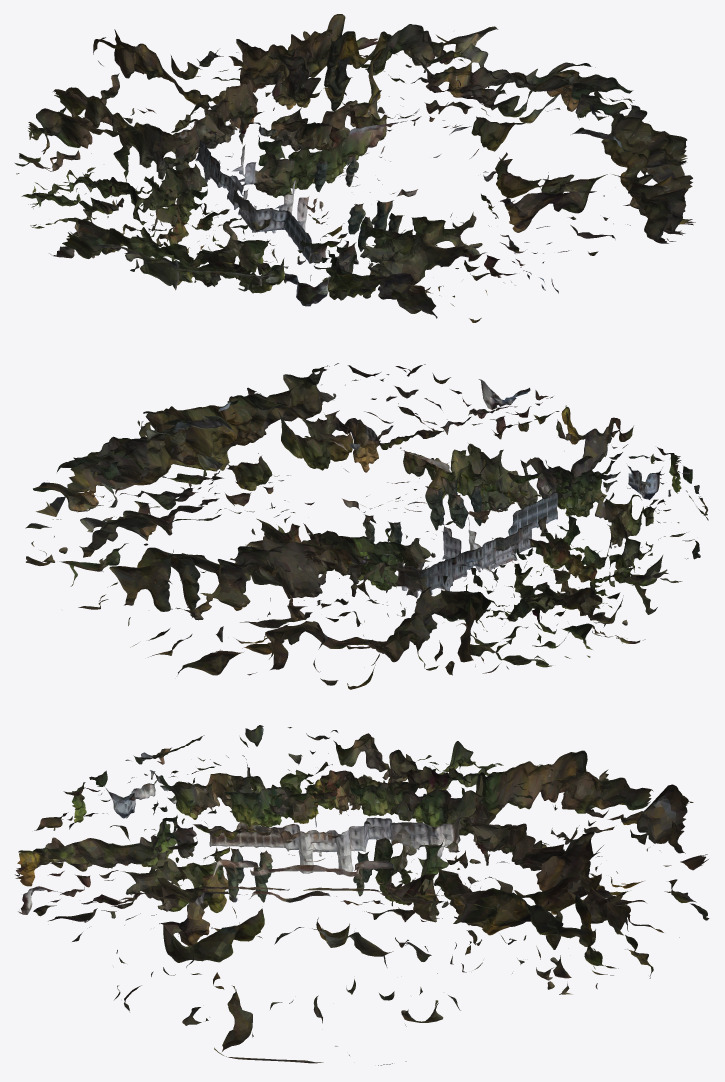
File: herrenhaus.glb
3 views of the same model, one above another, from view 1: azimuth 30°, elevation 25°; view 2: azimuth 150°, elevation 25°; view 3: azimuth 270°, elevation 25° (orthographic). The views are drawn at different scales.
Parts seen in each view (by area): view 1: herrenhaus.obj; view 2: herrenhaus.obj; view 3: herrenhaus.obj.
Part boxes in pixels (bbox=[...]): herrenhaus.obj: bbox=[15, 14, 695, 322]; herrenhaus.obj: bbox=[25, 363, 708, 689]; herrenhaus.obj: bbox=[15, 725, 709, 1065].
Size of the model in its own units: 57.64 by 9.4 by 57.45.
1 material, 1 textured.
